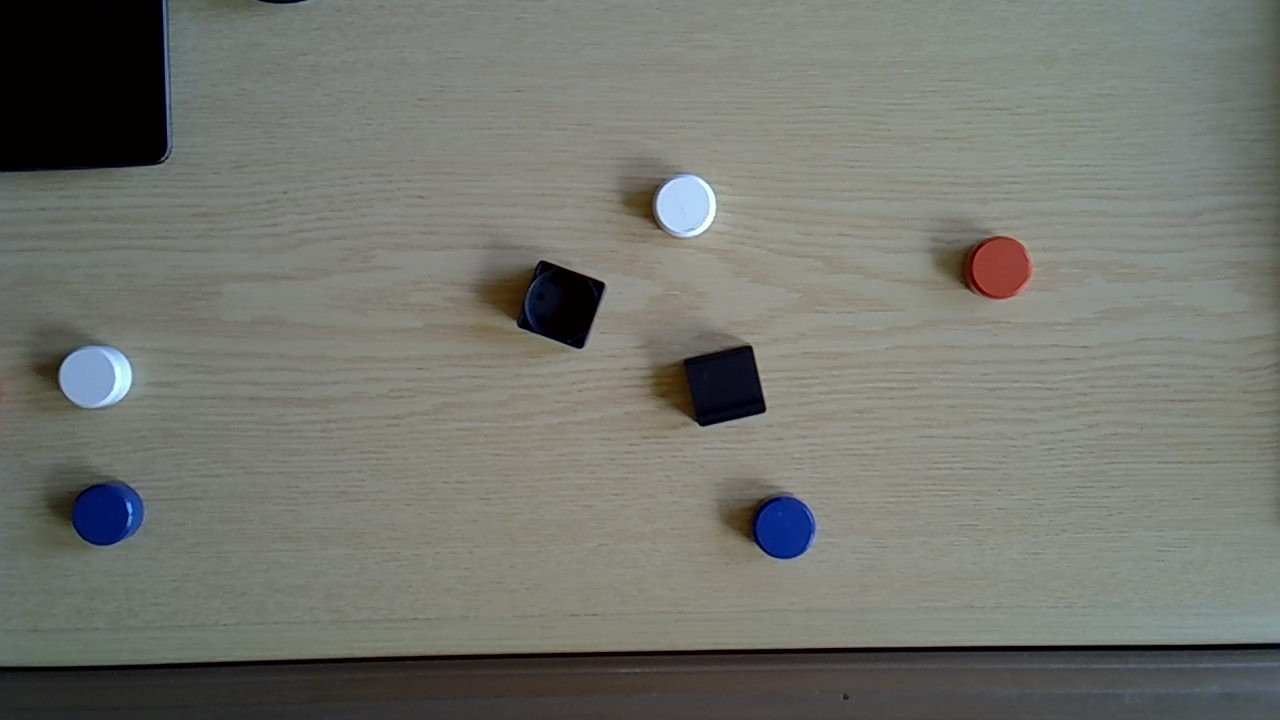Behaelter: (516, 260, 606, 352), (679, 343, 769, 429)
WerkStueck: (55, 345, 133, 408), (72, 481, 146, 547), (749, 496, 818, 562), (963, 235, 1033, 300), (654, 174, 718, 239)
